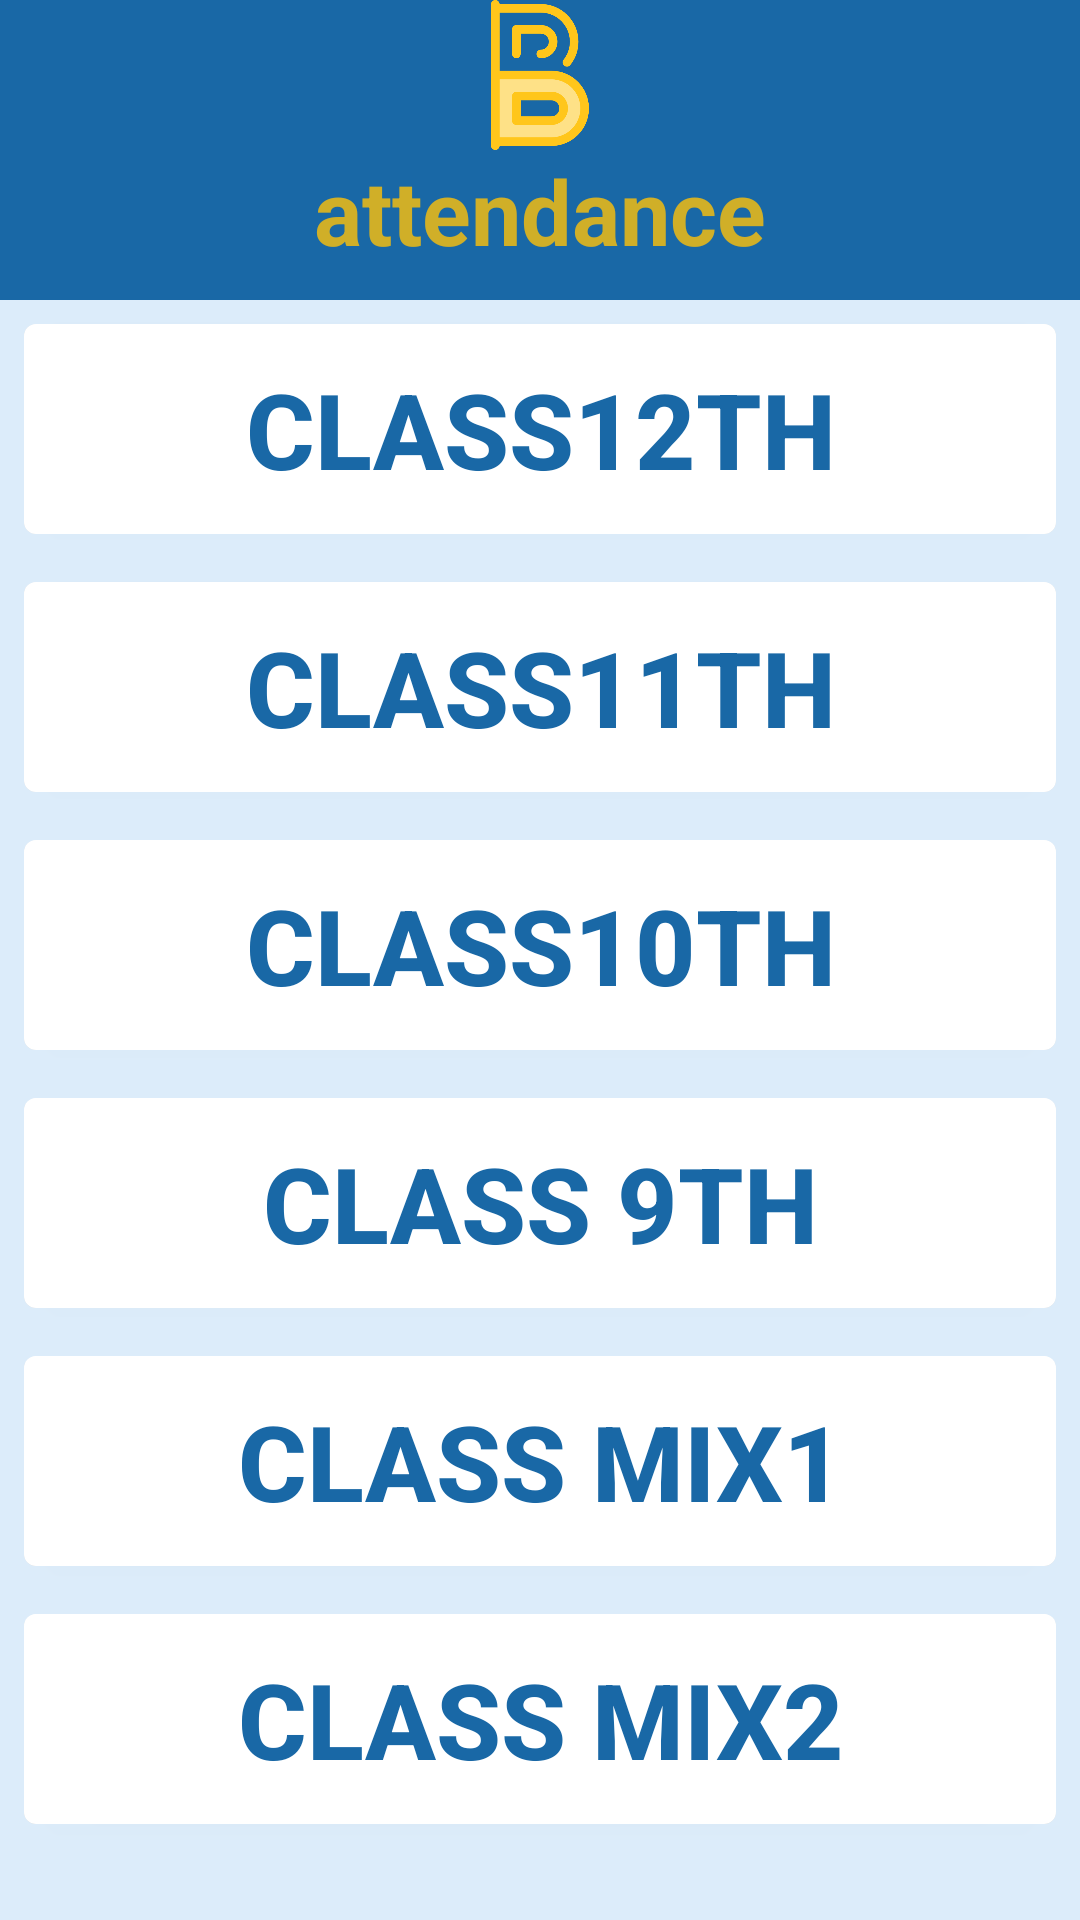

Icons on this 1080px x 1920px Android screen, each with its box as (x1, y1, x2, y2):
letterb: (491, 0, 589, 150)
